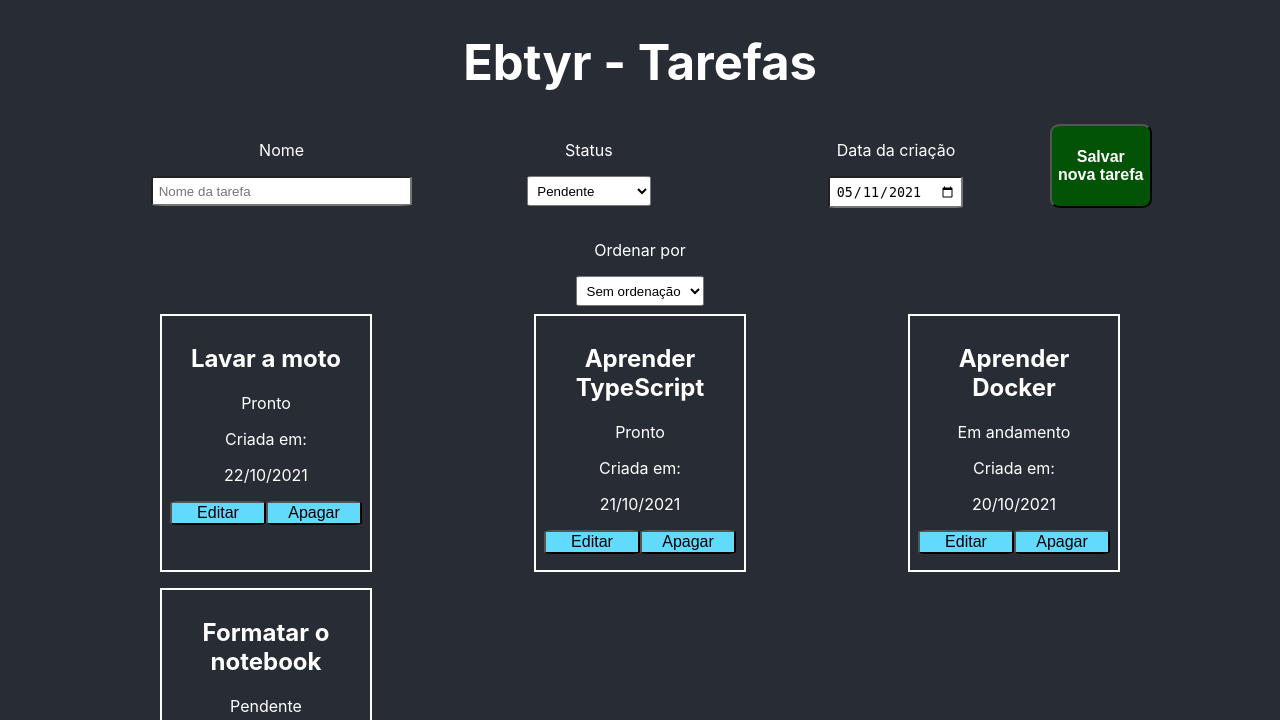
Test case: Teste da aplicação inteira › ao escolher uma opção de ordenação, verificar alterações
Expected: the heading with test id "name-task-0" reads "Lavar a moto", [191,344,341,373]
Expected: the heading with test id "name-task-1" reads "Aprender TypeScript", [576,344,704,402]
Select "Data" in the dropdown with test id "task-order": (640, 291) [576,276,704,306]
(page scrolled)
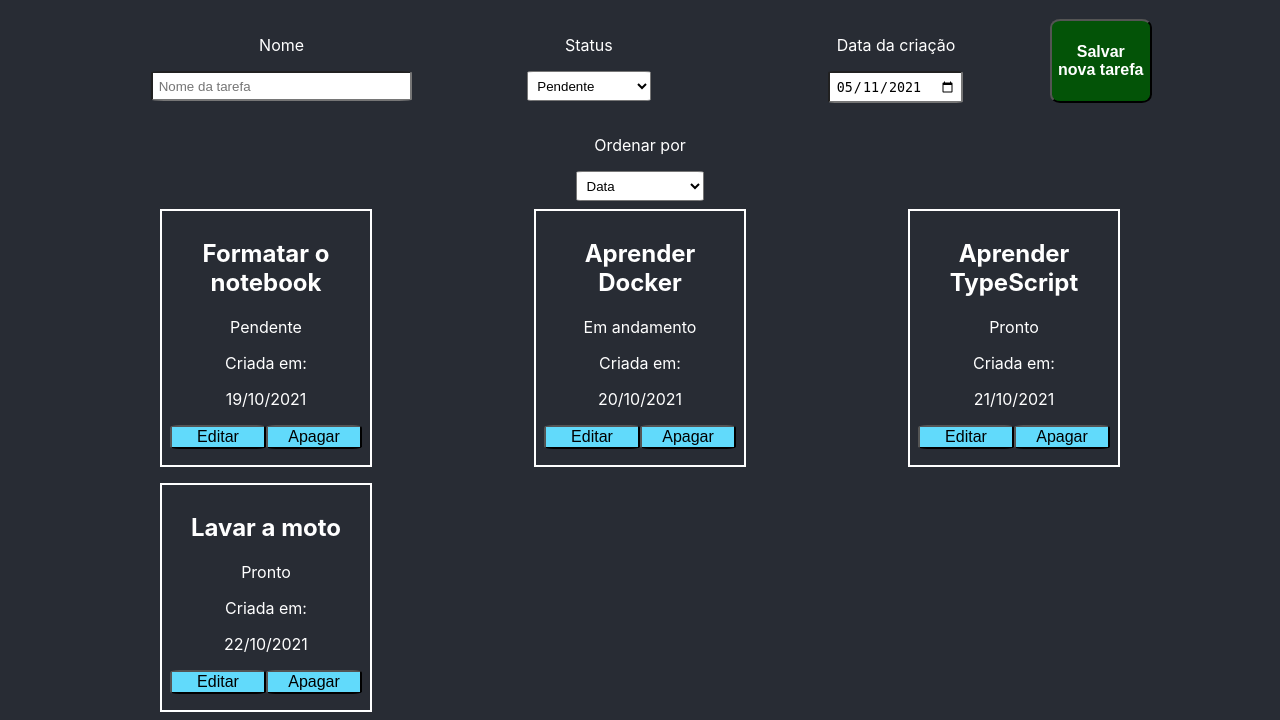
Expected: the heading with test id "name-task-0" reads "Formatar o notebook", [202,239,329,297]
Result: the heading "Formatar o notebook" is shown at [202,239,329,297]
Result: the heading "Aprender Docker" is shown at [585,239,695,297]
